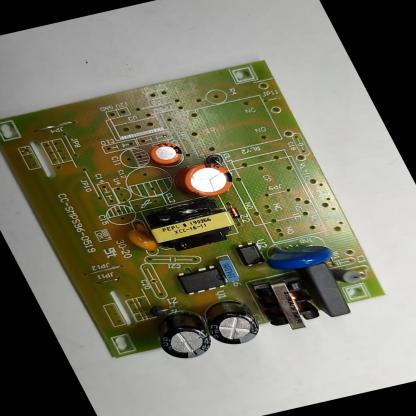Cap1: (174, 158, 241, 202)
Cap2: (145, 140, 187, 168)
Cap3: (191, 293, 266, 351)
Cap4: (143, 305, 218, 365)
MOSFET: (170, 262, 230, 298)
Mov: (257, 236, 341, 276)
Resistor: (330, 262, 367, 288)
Transformer: (138, 194, 242, 256), (249, 273, 326, 335)
